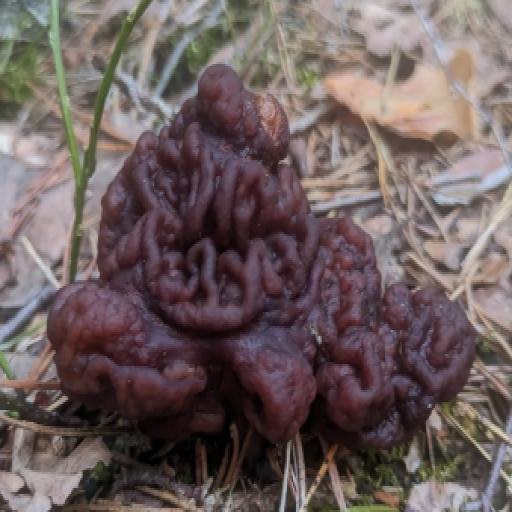mushroom: (51, 62, 482, 449)
